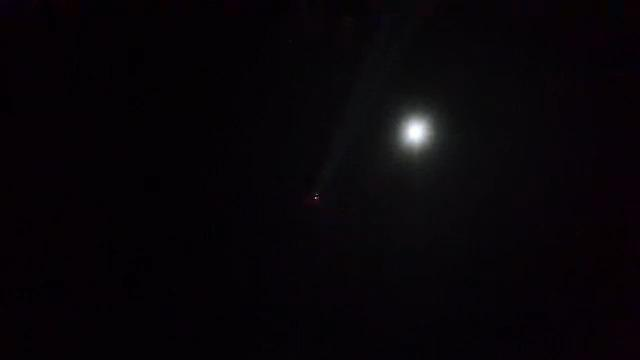Plane: (307, 147, 338, 210)
